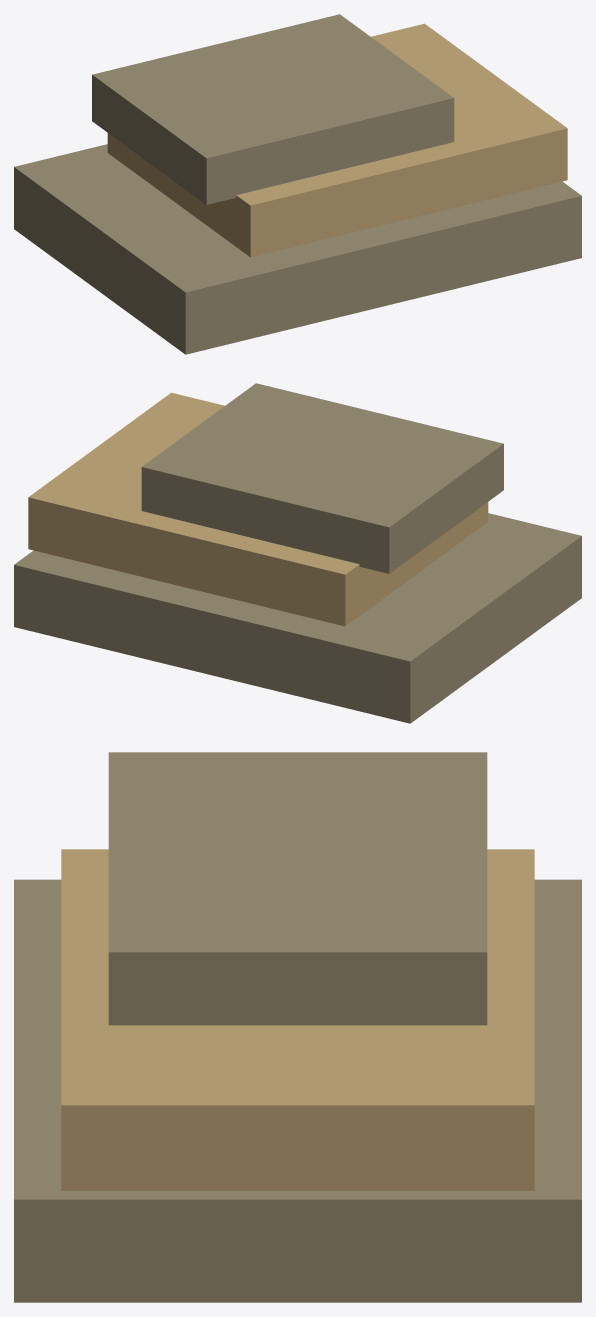
File: cloth_bundle.glb
3 views of the same model, one above another, from view 1: azimuth 30°, elevation 25°; view 2: azimuth 150°, elevation 25°; view 3: azimuth 270°, elevation 25° (orthographic). The views are drawn at different scales.
Parts seen in each view (by area): view 1: cloth_bundle; view 2: cloth_bundle; view 3: cloth_bundle.
Boxes of the visible parts, x1,y1,x2,y2 form: cloth_bundle: [14, 14, 581, 354]; cloth_bundle: [14, 383, 581, 723]; cloth_bundle: [14, 752, 581, 1302].
Size of the model in its own units: 0.08 by 0.0315 by 0.06.
